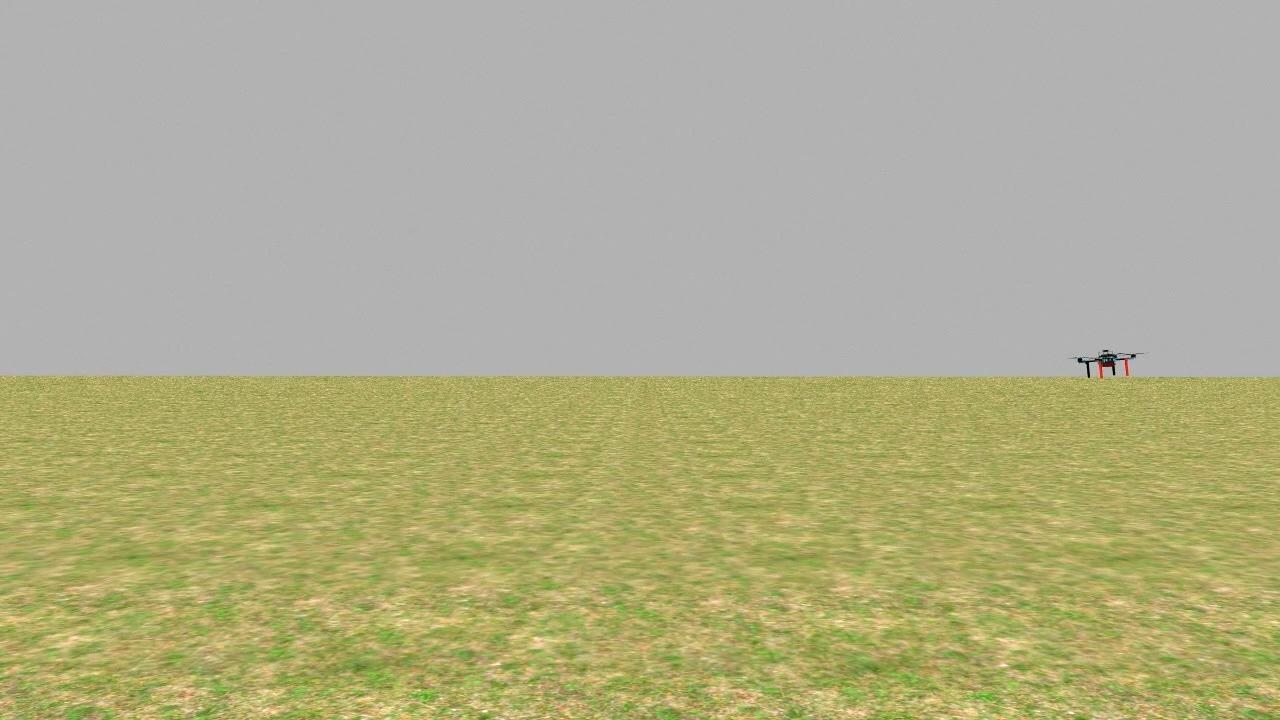UAV: (1071, 345, 1147, 391)
